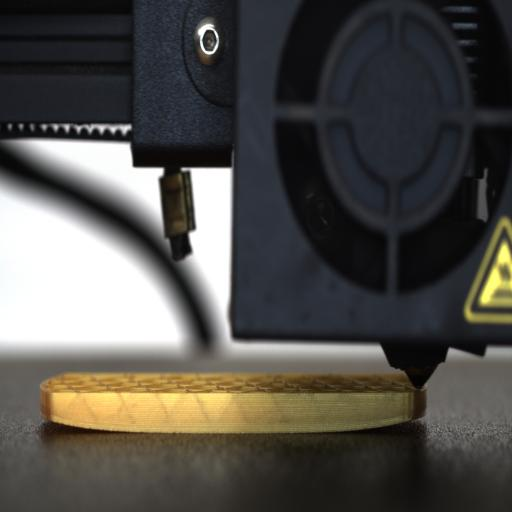warp: (34, 408, 142, 438), (344, 404, 435, 436)
